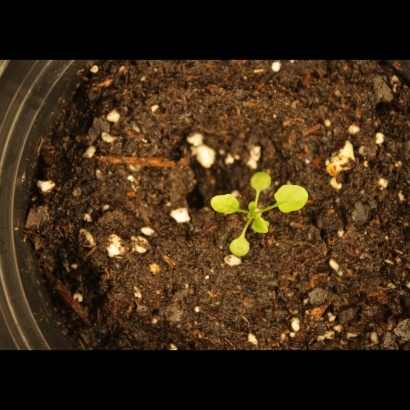leaf: (272, 180, 313, 214), (203, 186, 242, 218), (226, 230, 253, 261), (245, 166, 273, 195), (251, 213, 274, 236)
